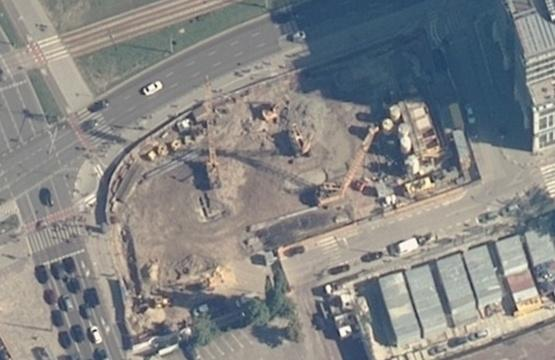koparka: (285, 119, 318, 157), (256, 93, 293, 124)
samochod_osobowy: (232, 288, 257, 310), (191, 301, 211, 319)
spychacz: (150, 295, 174, 310)
zuraw_mobilny: (313, 122, 381, 210), (202, 73, 223, 189)
